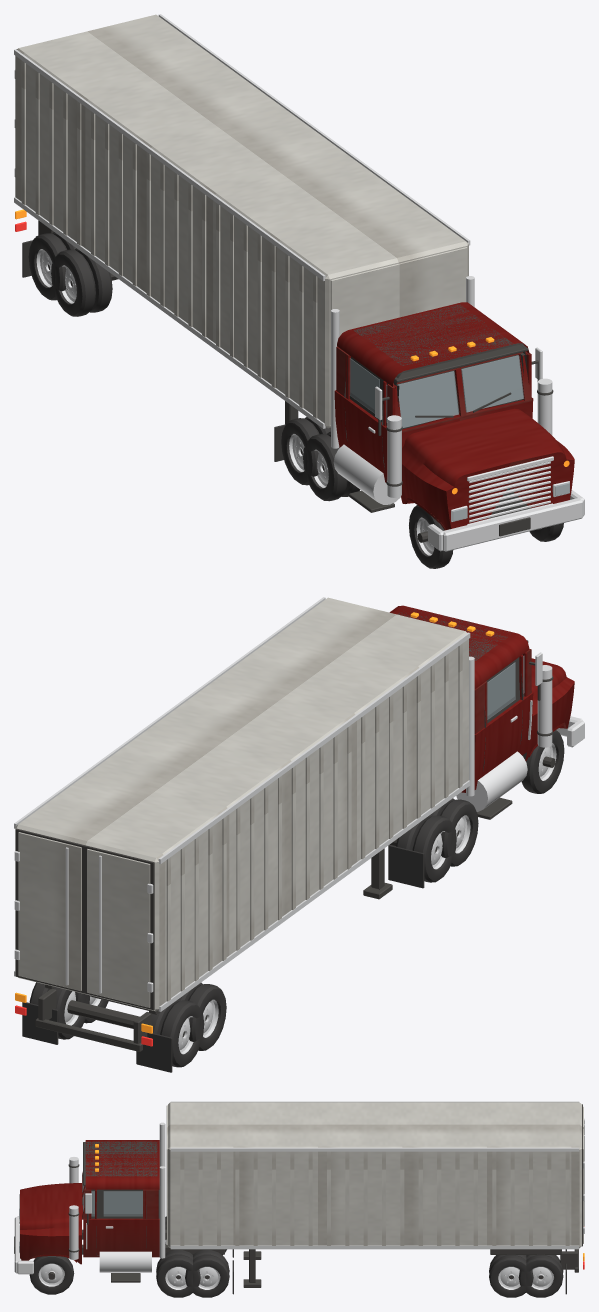
Rendered from hero-truck.glb.
3 views of the same model, one above another, from view 1: azimuth 30°, elevation 25°; view 2: azimuth 150°, elevation 25°; view 3: azimuth 270°, elevation 25° (orthographic). The views are drawn at different scales.
Parts seen in each view (by area): view 1: HeroTruck; view 2: HeroTruck; view 3: HeroTruck.
Part boxes in pixels (<box>): HeroTruck: <box>14,14,584,568</box>; HeroTruck: <box>14,597,584,1072</box>; HeroTruck: <box>14,1101,584,1297</box>.
Bounding box in the file's own units: 2.98 × 3.94 × 13.52.
8 materials, 2 textured.
